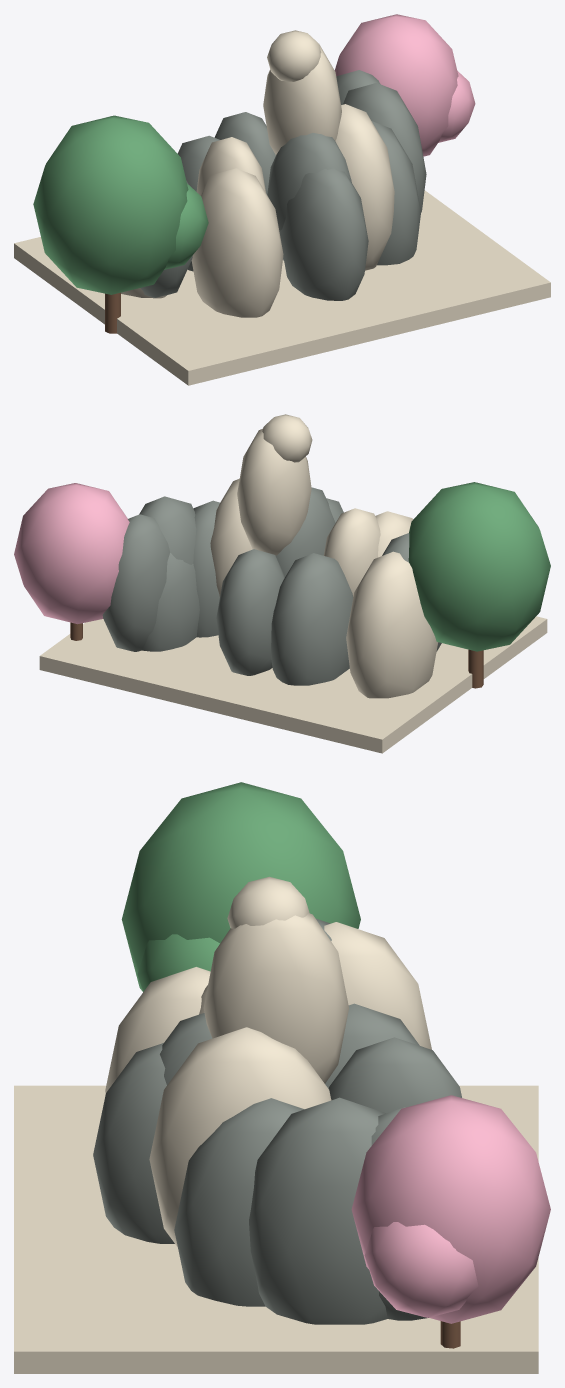
The model's file is rock-garden.glb.
3 renders of one model, top to bottom at view 1: azimuth 30°, elevation 25°; view 2: azimuth 150°, elevation 25°; view 3: azimuth 270°, elevation 25°, orthographic. The views are drawn at different scales.
Bounding box in the file's own units: 2.42 × 1.34 × 1.53.
